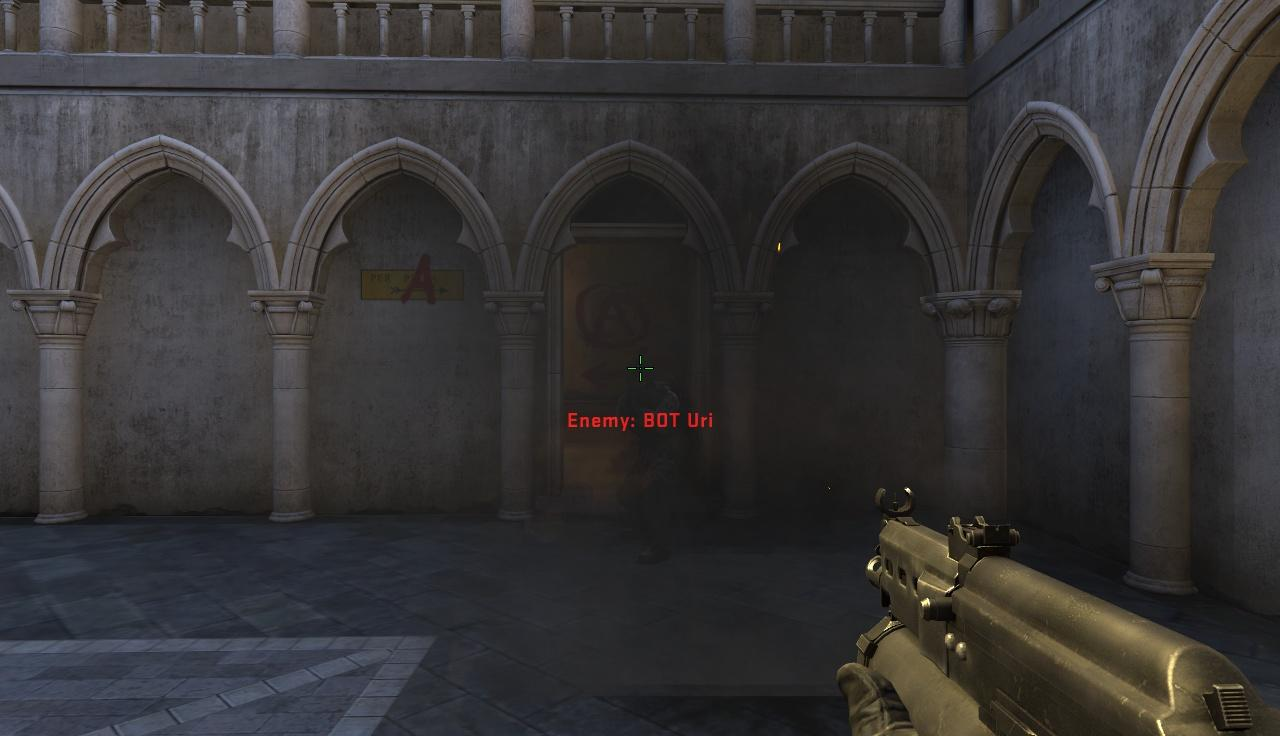ct: (615, 362, 692, 559)
cthead: (621, 364, 655, 395)
rifle: (849, 481, 1280, 736)
